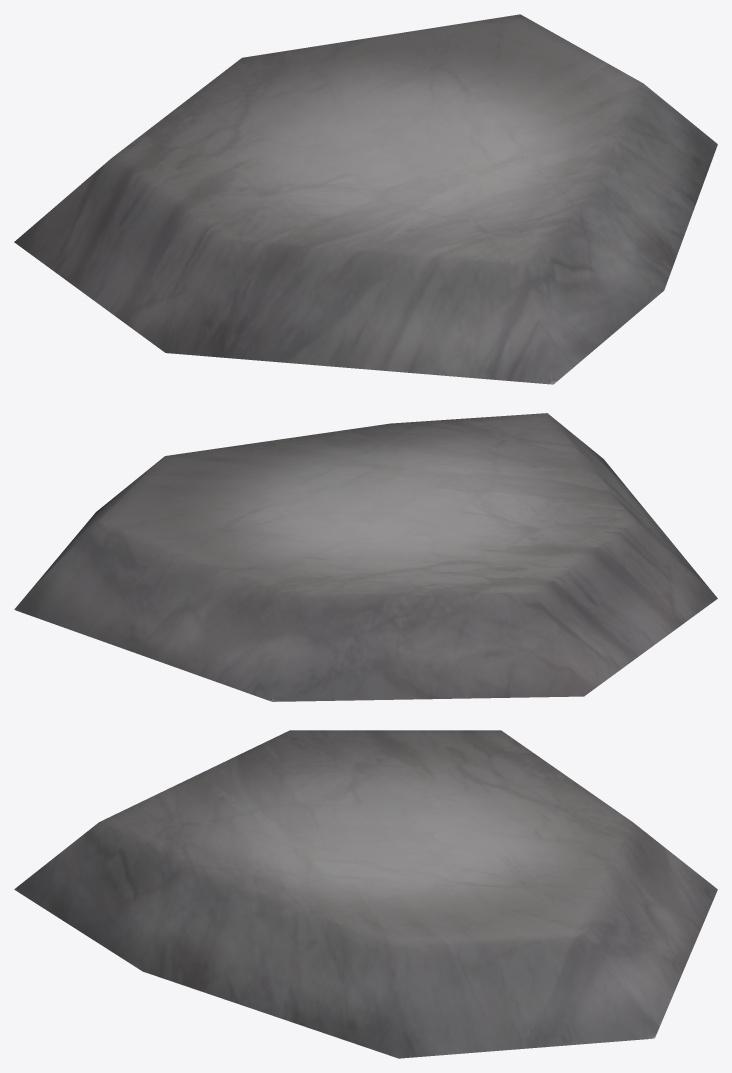
Rendered from stone1.fbx.
3 views of the same model, one above another, from view 1: azimuth 30°, elevation 25°; view 2: azimuth 150°, elevation 25°; view 3: azimuth 270°, elevation 25° (orthographic). The views are drawn at different scales.
Visible parts, largest first — view 1: steppingStone1; view 2: steppingStone1; view 3: steppingStone1.
Part boxes in pixels (left/top/right/bottom): steppingStone1: left=14, top=14, right=717, bottom=384; steppingStone1: left=14, top=413, right=717, bottom=701; steppingStone1: left=14, top=730, right=717, bottom=1058.
Size of the model in its own units: 4.11 by 0.5056 by 4.26.
Materials: 1 (1 with a texture image).
